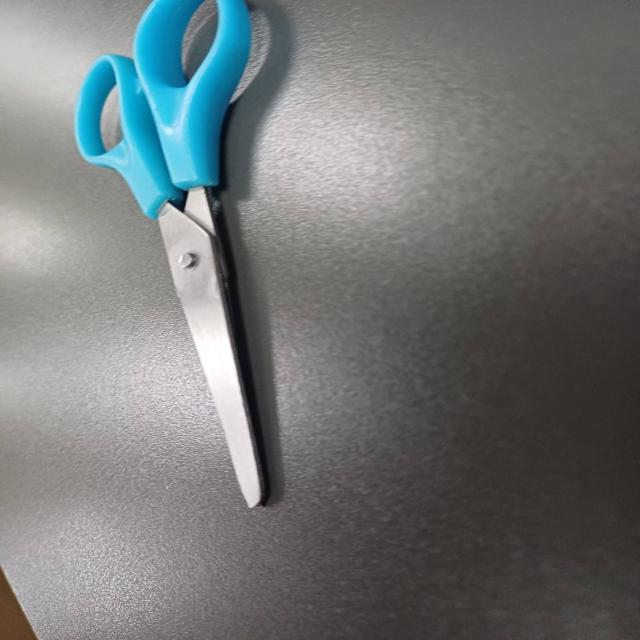scissors: (59, 0, 292, 520)
